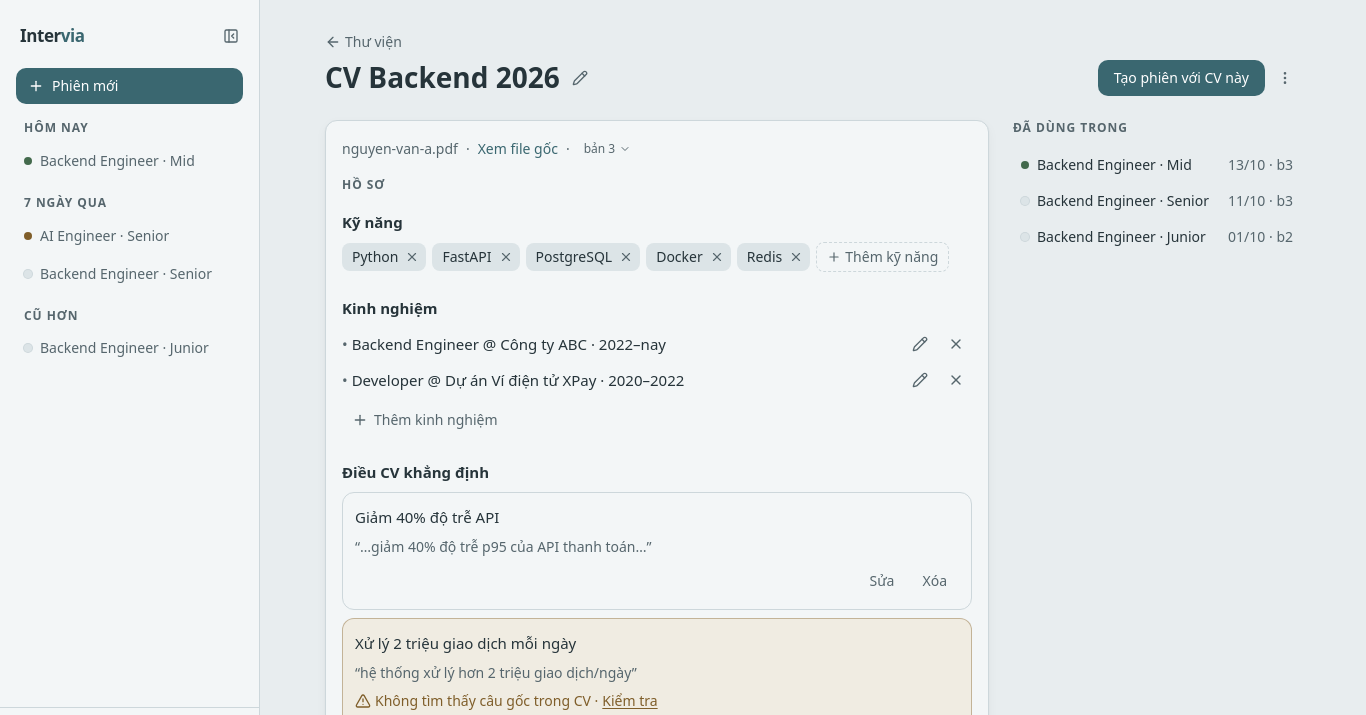
Test: CvDetailPage › renames the CV in place
The image size is (1366, 715).
Step 1. Click the button named "Đổi tên CV" → {"x": 580, "y": 78}, box [564,62,596,94]
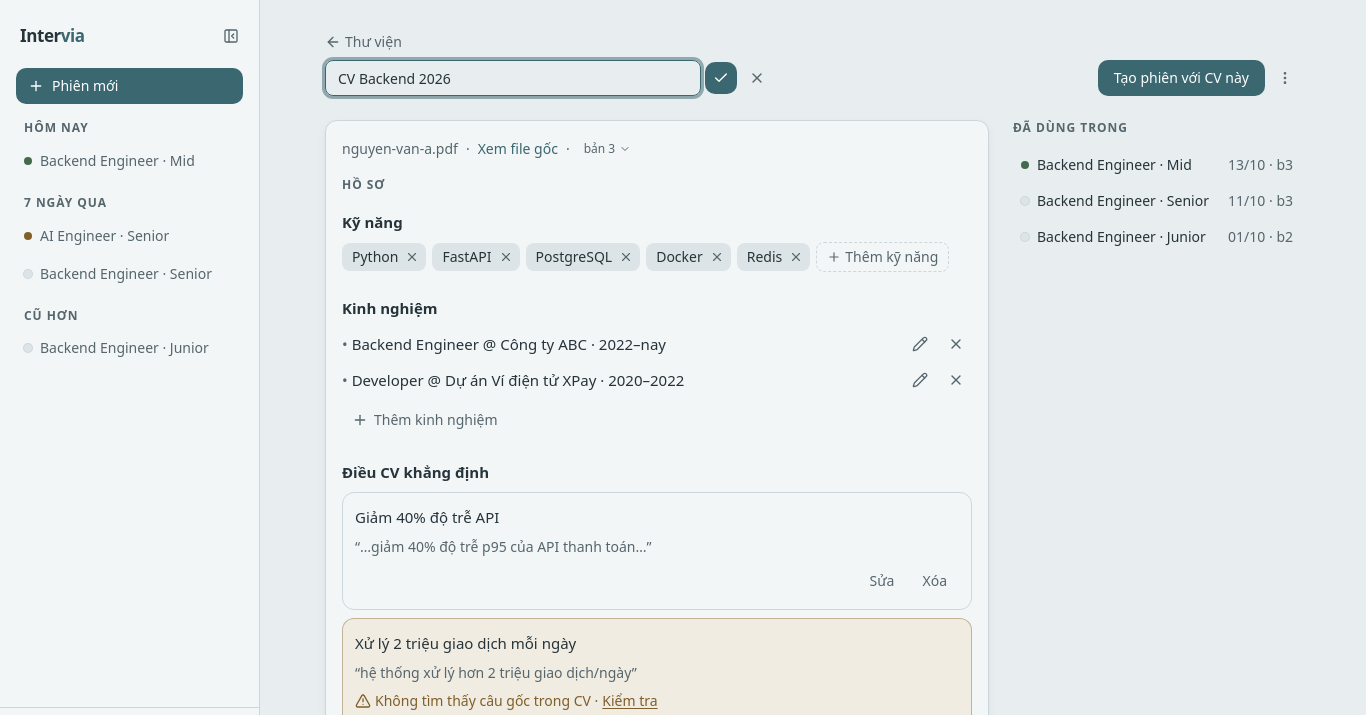
Step 2. Clear the field named "Tên CV" → {"x": 513, "y": 78}, box [325,60,701,96]
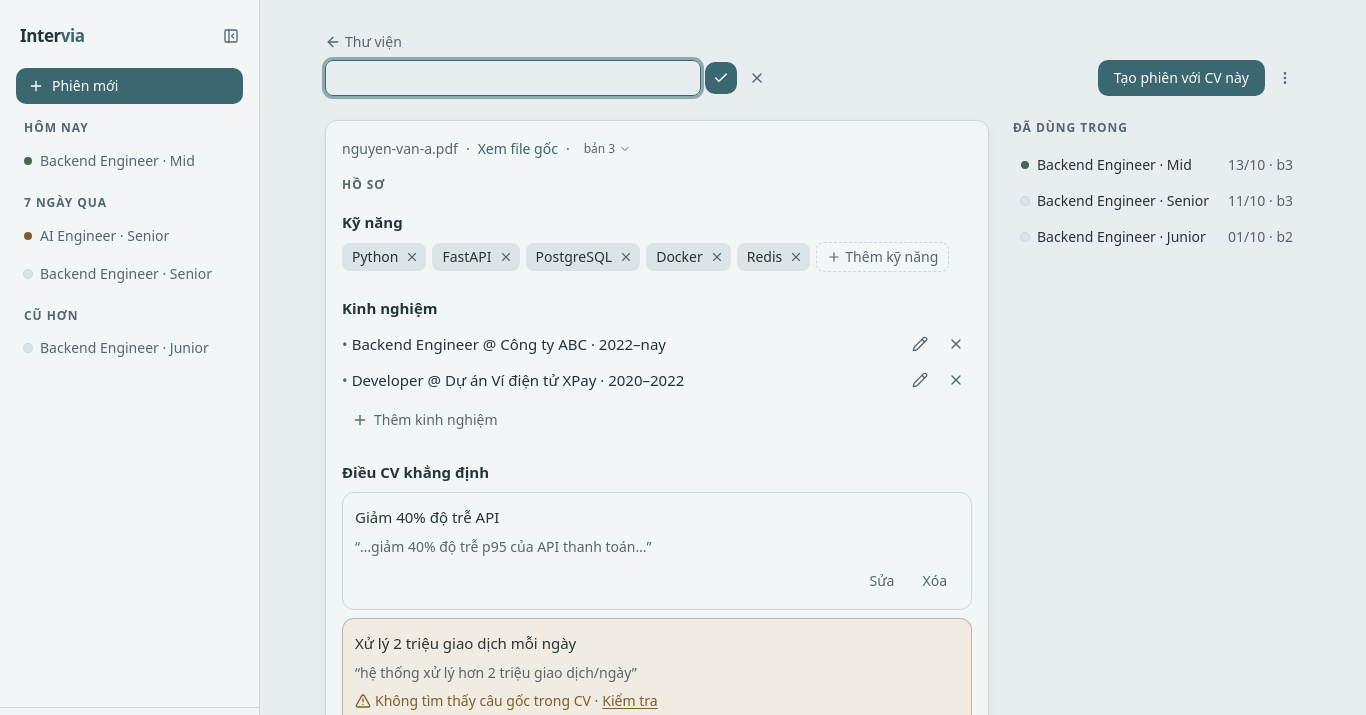
Step 3. Click the button named "Lưu tên" → {"x": 721, "y": 78}, box [705,62,737,94]
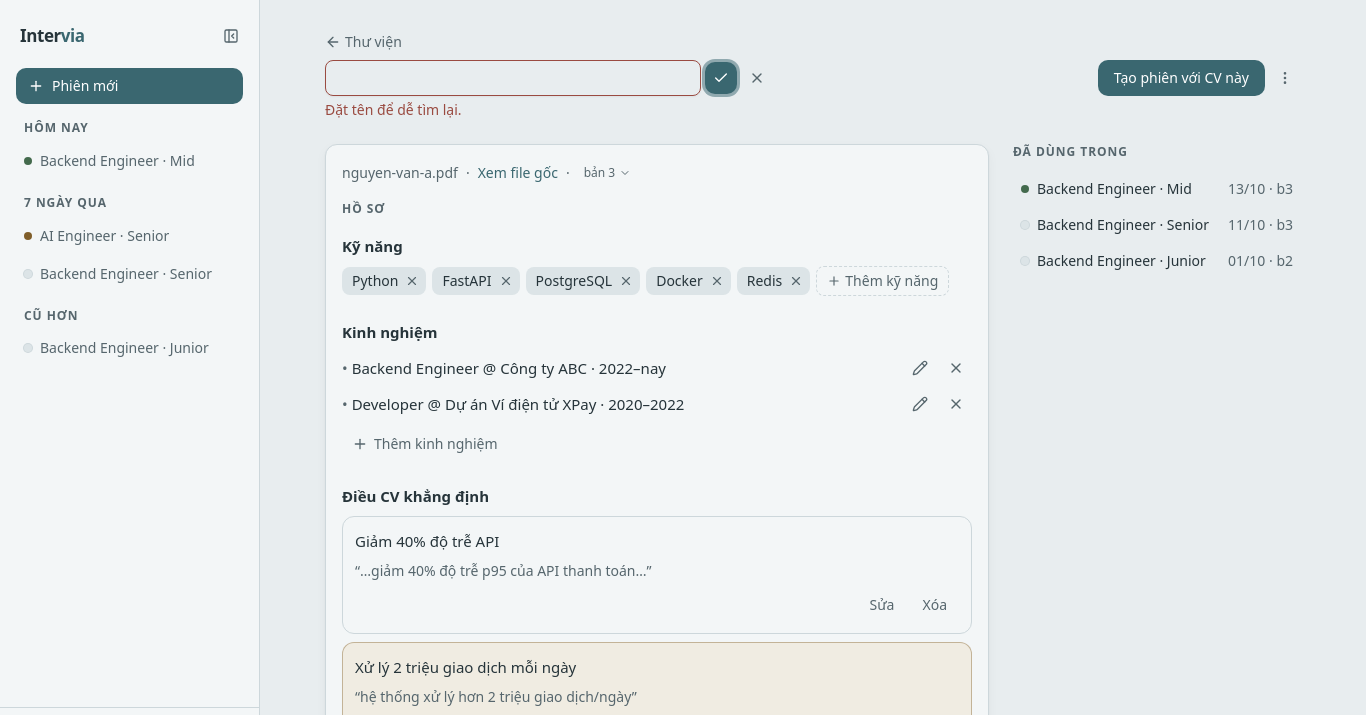
Now the text "Đặt tên để dễ tìm lại." is shown, box [325,100,462,119]
Step 4. Type "CV Backend mới" into the field named "Tên CV" → {"x": 513, "y": 78}, box [325,60,701,96]
Then press Enter
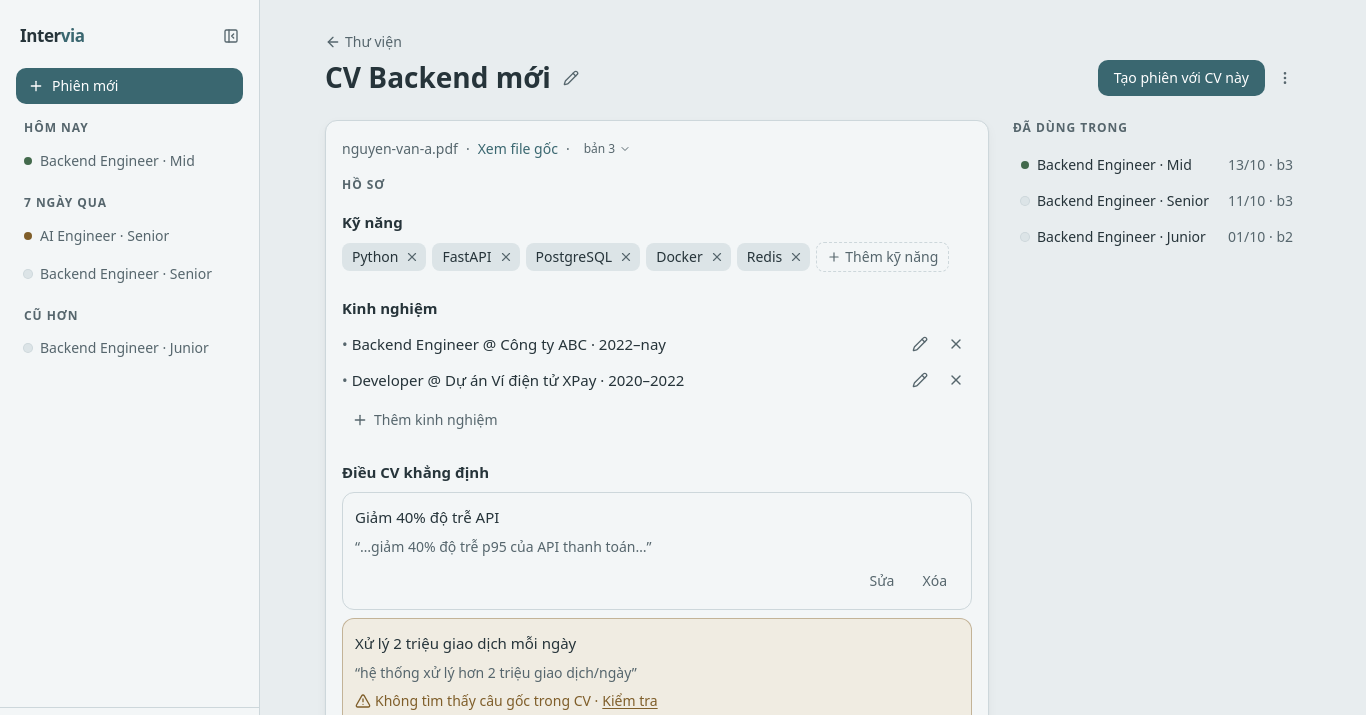
Now the heading "CV Backend mới" is shown, box [325,60,551,95]
